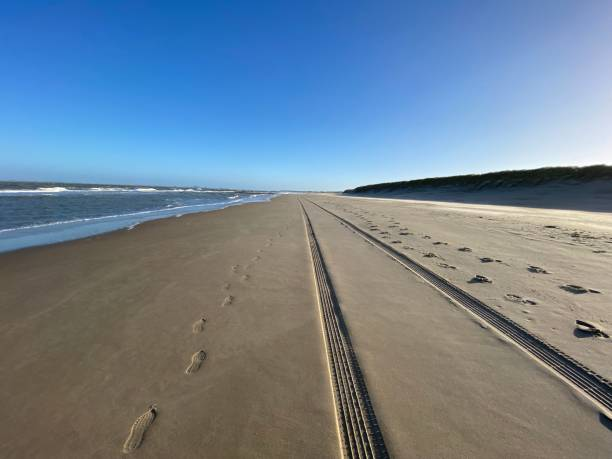human_foot_print: (123, 405, 157, 453), (575, 319, 609, 337), (185, 350, 206, 373), (560, 284, 600, 293), (504, 293, 536, 304), (192, 317, 206, 333), (245, 256, 260, 269), (469, 274, 491, 282), (527, 265, 548, 273), (221, 295, 233, 306), (438, 262, 456, 269), (479, 257, 502, 262), (264, 238, 273, 247), (479, 257, 494, 262), (231, 264, 240, 272), (398, 230, 412, 235), (240, 274, 250, 281), (423, 252, 437, 257), (402, 245, 415, 250), (222, 282, 230, 290), (250, 256, 260, 262), (592, 249, 606, 253), (458, 247, 471, 251), (432, 241, 447, 244), (387, 224, 398, 228), (370, 227, 379, 231), (390, 240, 401, 243), (277, 232, 282, 237), (380, 231, 388, 234), (256, 249, 262, 253), (422, 235, 430, 238), (381, 235, 389, 238)
vehicle_track: (307, 199, 611, 416), (300, 201, 388, 458)
